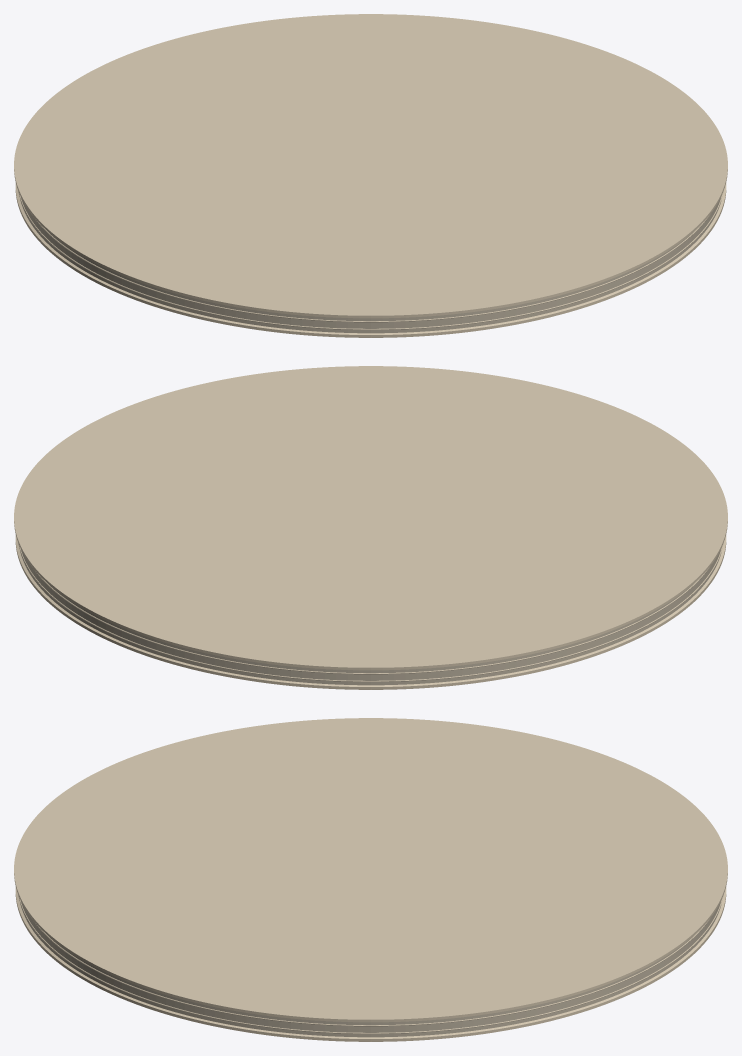
3 views of the same model, one above another, from view 1: azimuth 30°, elevation 25°; view 2: azimuth 150°, elevation 25°; view 3: azimuth 270°, elevation 25° (orthographic).
Parts seen in each view (by area): view 1: Base_3; view 2: Base_3; view 3: Base_3.
Boxes of the visible parts, box(x1,y1,x2,y2) form: Base_3: box(14, 14, 727, 337); Base_3: box(14, 366, 727, 689); Base_3: box(14, 718, 727, 1041).
Bounding box in the file's own units: 4050 × 4050 × 150.
